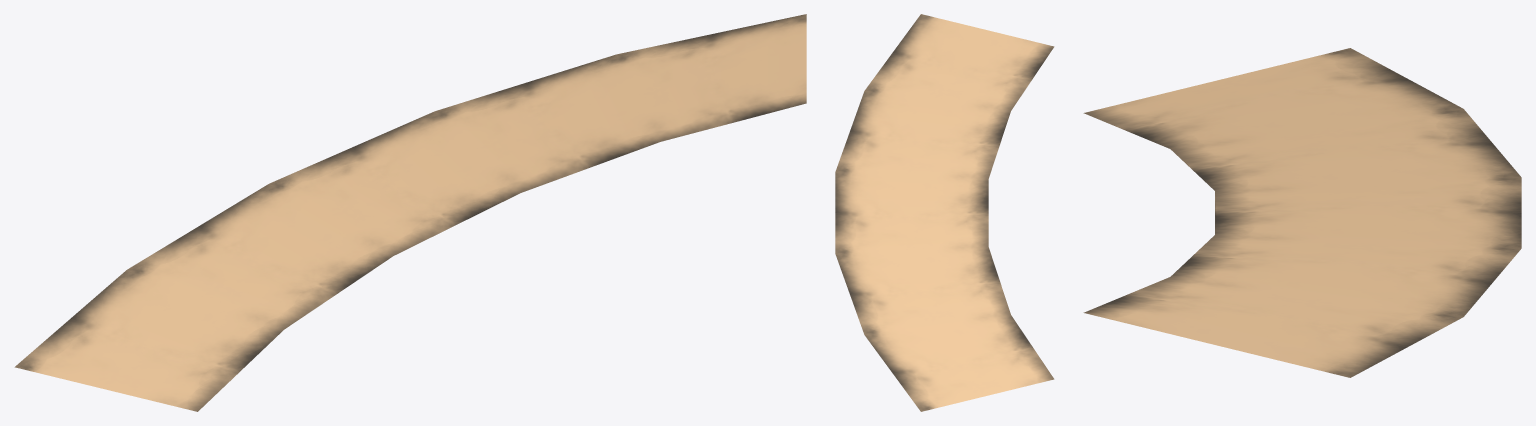
File: CourseSummer_Floor_9.fbx
3 renders of one model, left to right at view 1: azimuth 90°, elevation 25°; view 2: azimuth 150°, elevation 25°; view 3: azimuth 330°, elevation 25°, orthographic. The views are drawn at different scales.
Visible parts, largest first — view 1: polySurface44; view 2: polySurface44; view 3: polySurface44.
Boxes of the visible parts, bbox=[...] form: polySurface44: bbox=[14, 14, 806, 411]; polySurface44: bbox=[835, 14, 1054, 411]; polySurface44: bbox=[1083, 48, 1521, 377].
Bounding box in the file's own units: 15.96 × 5 × 22.45.
1 material, 1 textured.
